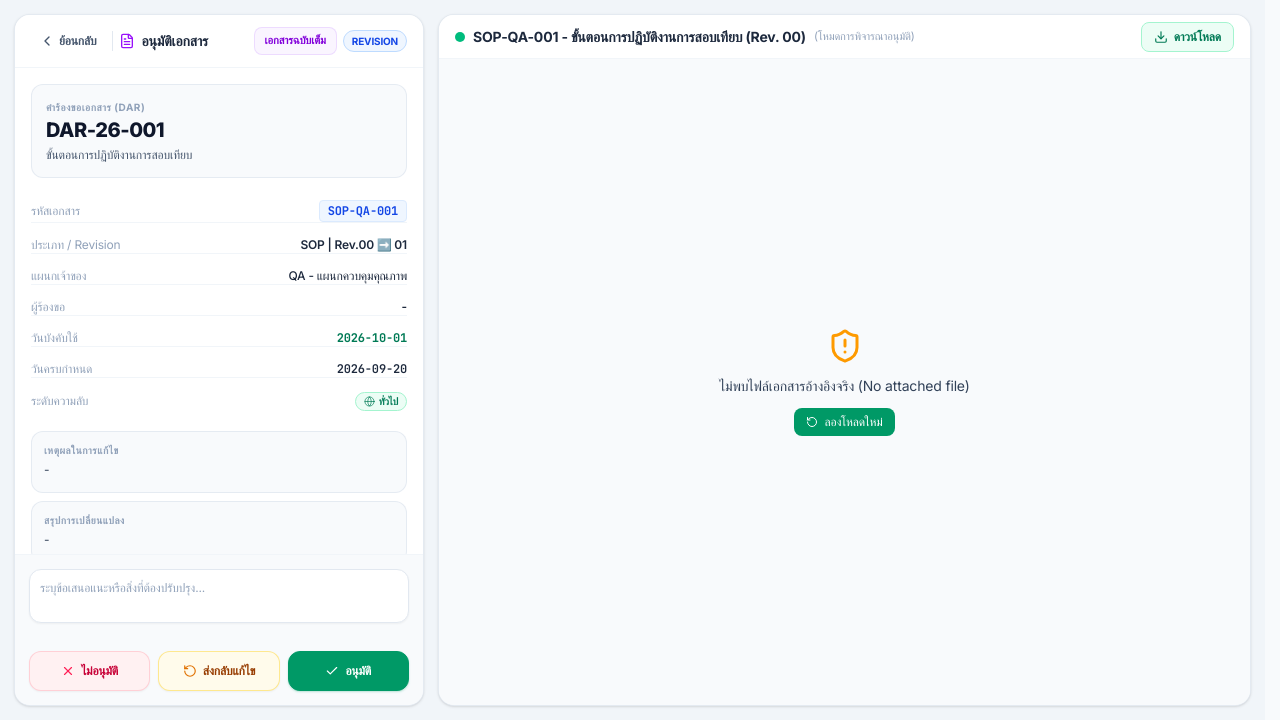
Test: TaskApprove & TaskReview Runtime Verification (Zero WSOD & No motion errors) › displays Forward to DCC card and does NOT self-target to Khun Ray in TaskApprove confirmation modal
Note: Click on the Approve action button to open confirmation modal
Step 1. Click the button with aria-label "อนุมัติ (Approve)" → x=348, y=671, box [288,651,409,691]
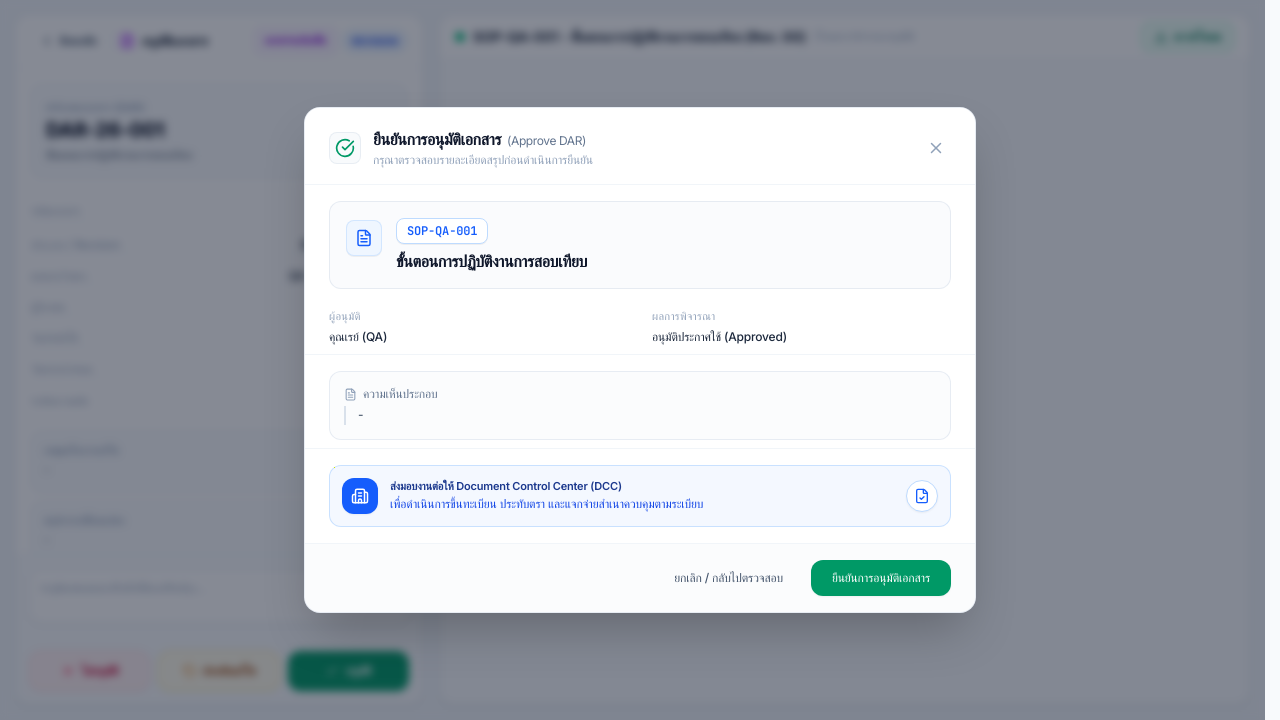
Check: the text "(Approve DAR)" is shown, box [507,133,586,149]
Check: the text "ส่งมอบงานต่อให้ Document Control Center (DCC)" is shown, box [390,479,622,493]
Check: the text "เพื่อดำเนินการขึ้นทะเบียน ประทับตรา และแจกจ่ายสำเนาควบคุมตามระเบียบ" is shown, box [390,496,703,512]
